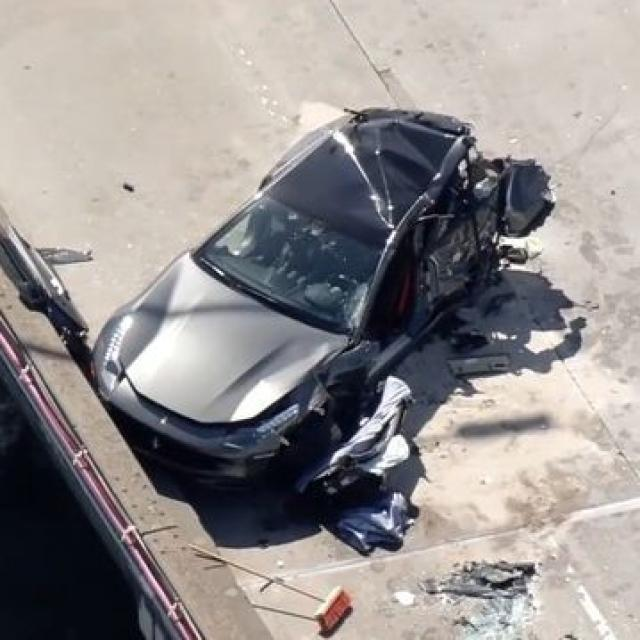traffic_incident: (91, 84, 537, 488)
